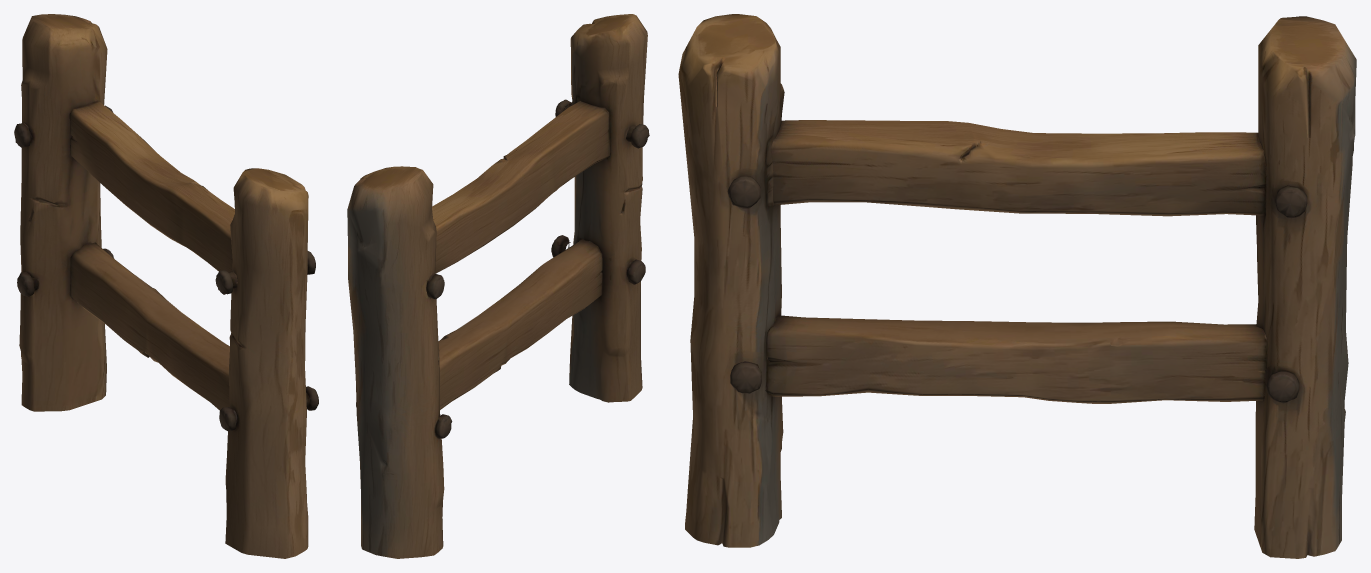
Rendered from wooden_fence_527f0325.glb.
3 views of the same model, side by side, from view 1: azimuth 30°, elevation 25°; view 2: azimuth 150°, elevation 25°; view 3: azimuth 270°, elevation 25° (orthographic). The views are drawn at different scales.
Parts seen in each view (by area): view 1: tripo_node_1c71dda7-aea0-4d46-b529-b4ea98abcbbc; view 2: tripo_node_1c71dda7-aea0-4d46-b529-b4ea98abcbbc; view 3: tripo_node_1c71dda7-aea0-4d46-b529-b4ea98abcbbc.
Boxes of the visible parts, box(x1,y1,x2,y2) form: tripo_node_1c71dda7-aea0-4d46-b529-b4ea98abcbbc: box(14, 14, 318, 558); tripo_node_1c71dda7-aea0-4d46-b529-b4ea98abcbbc: box(347, 14, 649, 558); tripo_node_1c71dda7-aea0-4d46-b529-b4ea98abcbbc: box(678, 14, 1356, 558).
Size of the model in its own units: 0.209 by 0.8223 by 0.998.
Materials: 1 (1 with a texture image).
